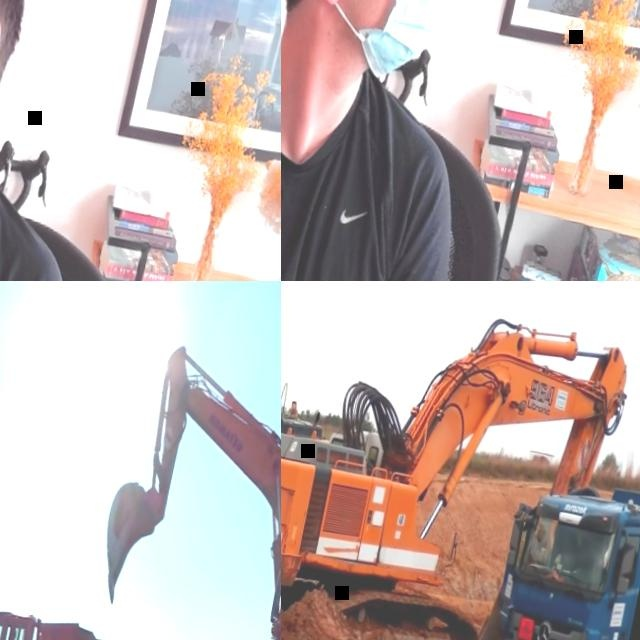Mask: (308, 0, 453, 88)
NO-Safety Vest: (281, 53, 425, 281)
Person: (281, 0, 554, 281), (0, 0, 169, 281), (1, 632, 19, 640)
machinery: (281, 281, 639, 640), (79, 336, 281, 640), (472, 466, 640, 640), (281, 281, 352, 557)
